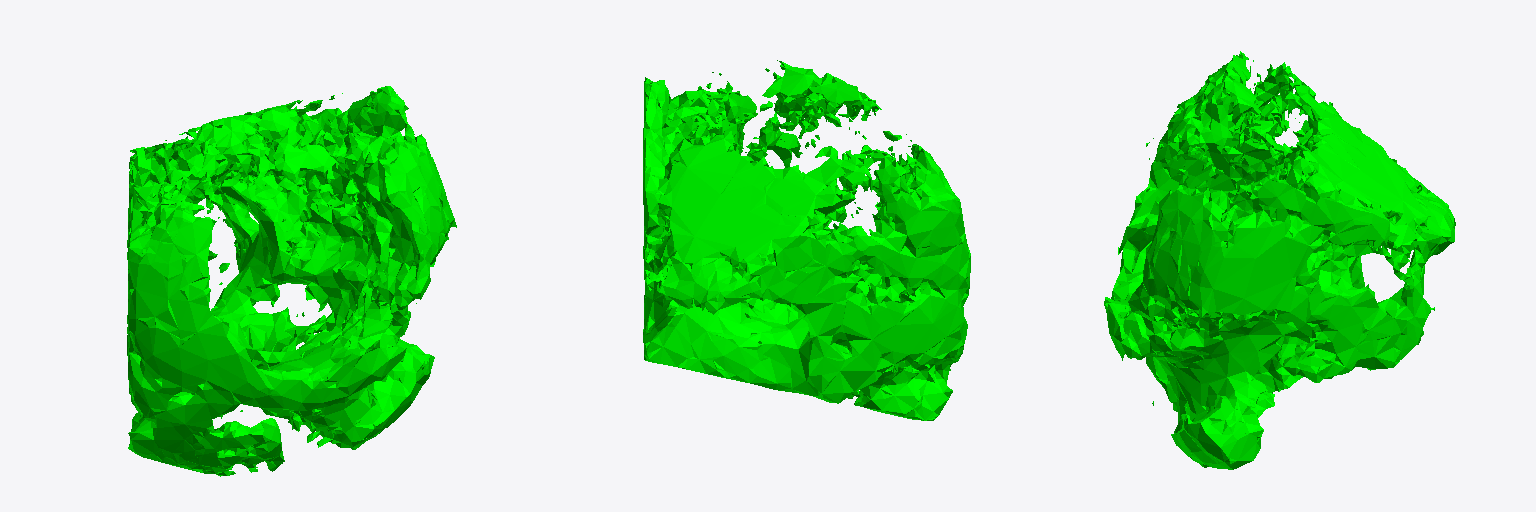
File: B939XXXX-1_base_15.obj
3 views of the same model, side by side, from view 1: azimuth 30°, elevation 25°; view 2: azimuth 150°, elevation 25°; view 3: azimuth 270°, elevation 25° (orthographic).
Parts seen in each view (by area): view 1: 15_base; view 2: 15_base; view 3: 15_base.
Part boxes in pixels (x1,y1,x2,y2): 15_base: (127, 86, 456, 476); 15_base: (643, 60, 970, 420); 15_base: (1104, 51, 1455, 469).
Size of the model in its own units: 216 by 218 by 203.